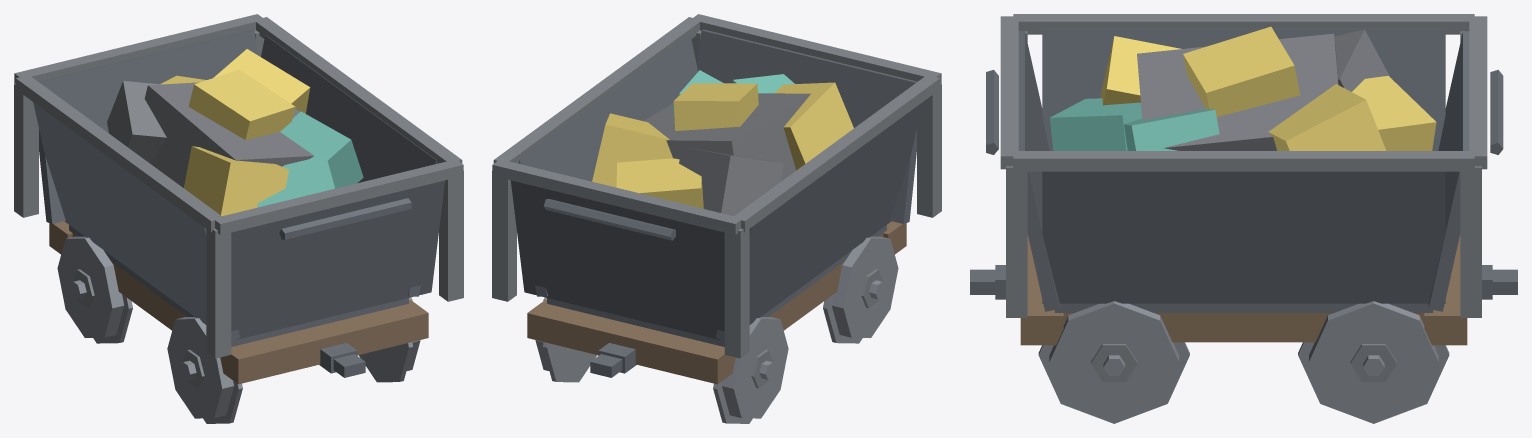
The model's file is mine_cart.glb.
The picture shows the model from 3 angles, left to right: view 1: azimuth 30°, elevation 25°; view 2: azimuth 150°, elevation 25°; view 3: azimuth 270°, elevation 25°; orthographic projection. The views are drawn at different scales.
Visible parts, largest first — view 1: mine_cart; view 2: mine_cart; view 3: mine_cart.
Boxes of the visible parts, bbox=[...] form: mine_cart: bbox=[14, 14, 463, 423]; mine_cart: bbox=[492, 14, 941, 423]; mine_cart: bbox=[970, 14, 1517, 423].
Bounding box in the file's own units: 0.95 × 1 × 1.52.
